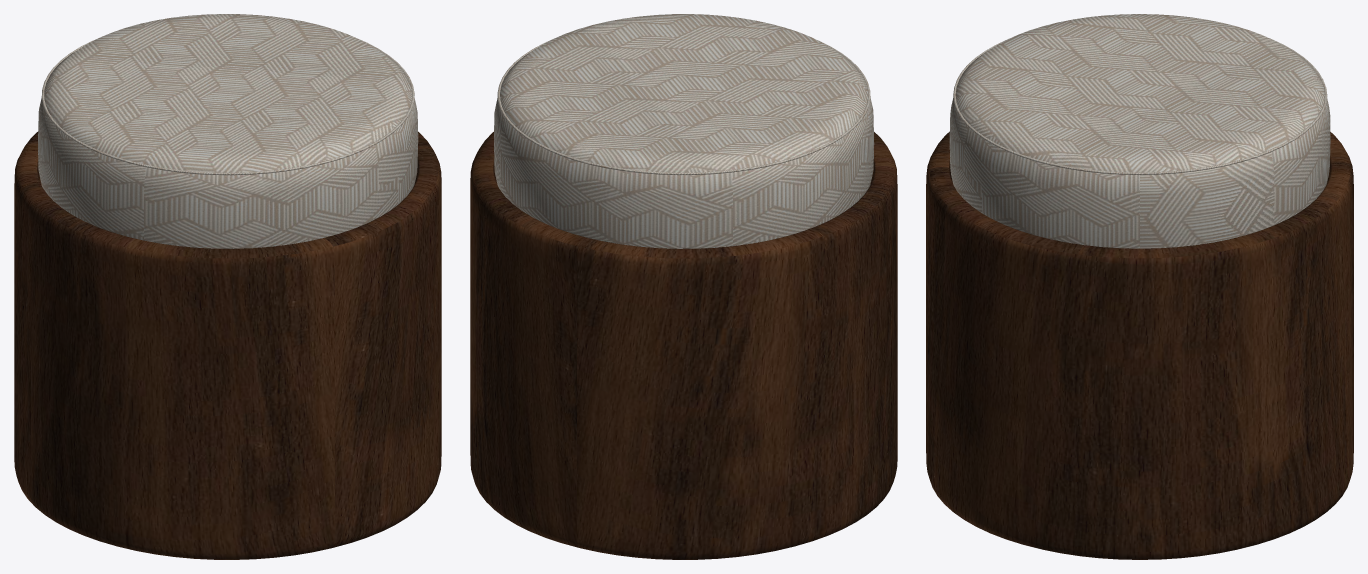
The picture shows the model from 3 angles, left to right: view 1: azimuth 30°, elevation 25°; view 2: azimuth 150°, elevation 25°; view 3: azimuth 270°, elevation 25°; orthographic projection.
Parts seen in each view (by area): view 1: lossless same-material batches; view 2: lossless same-material batches; view 3: lossless same-material batches.
Part boxes in pixels (bbox=[...]): lossless same-material batches: bbox=[14, 14, 441, 559]; lossless same-material batches: bbox=[470, 14, 897, 559]; lossless same-material batches: bbox=[926, 14, 1353, 559].
Bounding box in the file's own units: 1 × 1 × 1.
2 materials, 2 textured.
